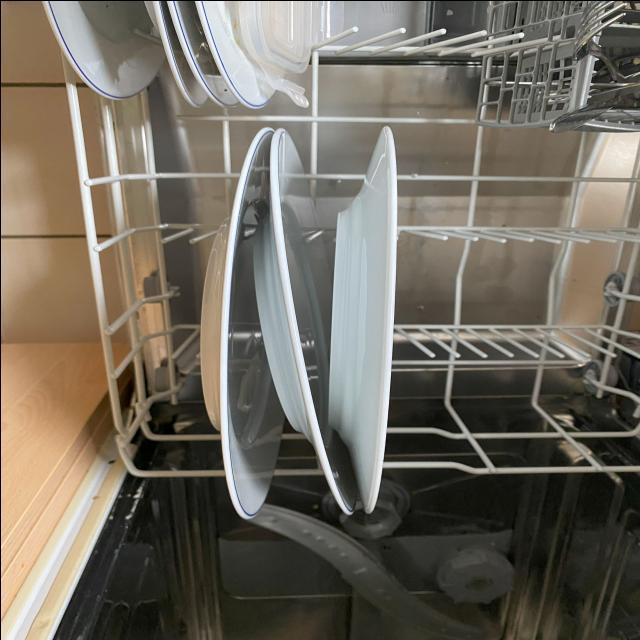empty_slot: (419, 136, 640, 477)
